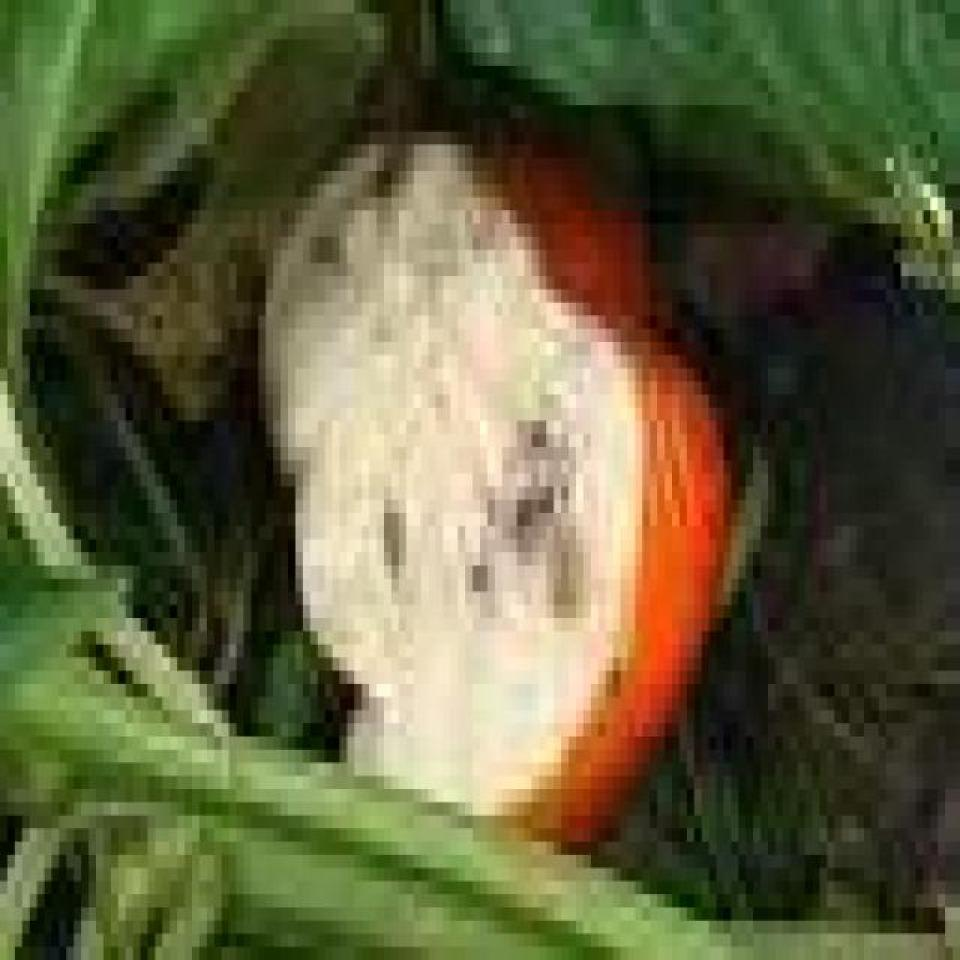Sunscald: (229, 92, 635, 816)
